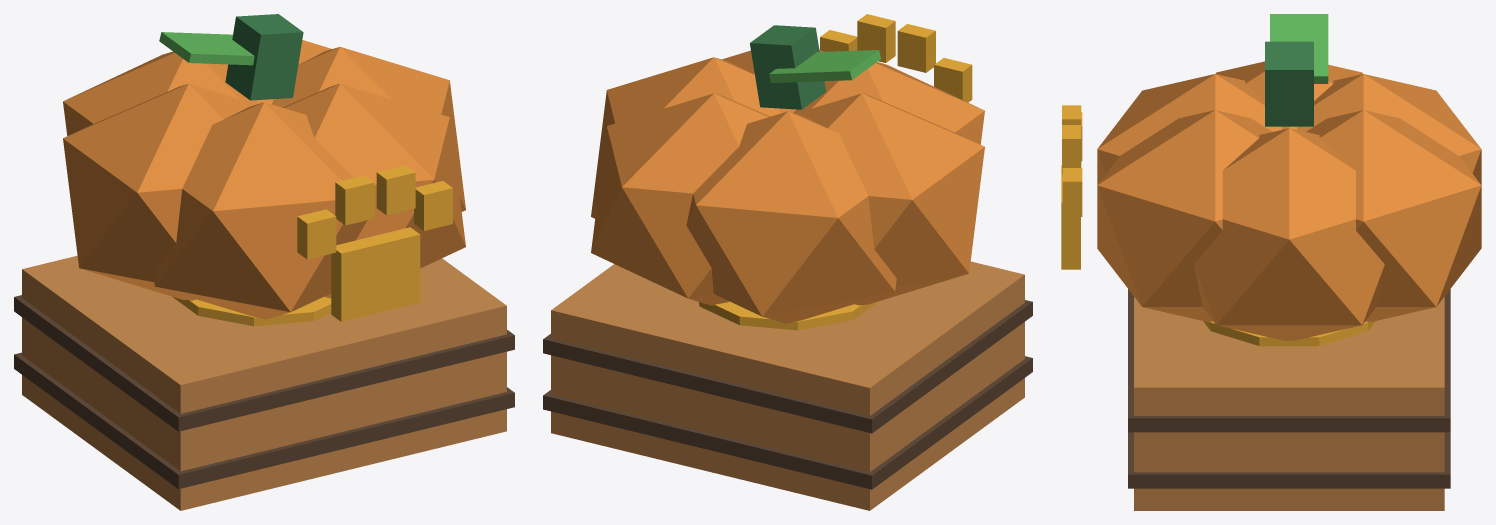
File: CatCafe_Decor_PawPumpkin.glb
The picture shows the model from 3 angles, left to right: view 1: azimuth 30°, elevation 25°; view 2: azimuth 150°, elevation 25°; view 3: azimuth 270°, elevation 25°; orthographic projection. The views are drawn at different scales.
Parts seen in each view (by area): view 1: CatCafe_Decor_PawPumpkin, CatCafe_Decor_PawPumpkin_Glow; view 2: CatCafe_Decor_PawPumpkin, CatCafe_Decor_PawPumpkin_Glow; view 3: CatCafe_Decor_PawPumpkin, CatCafe_Decor_PawPumpkin_Glow.
Part boxes in pixels (x1,y1,x2,y2): CatCafe_Decor_PawPumpkin: (14,14,514,510); CatCafe_Decor_PawPumpkin_Glow: (173,165,452,326); CatCafe_Decor_PawPumpkin: (543,25,1032,510); CatCafe_Decor_PawPumpkin_Glow: (698,14,972,330); CatCafe_Decor_PawPumpkin: (1097,14,1481,510); CatCafe_Decor_PawPumpkin_Glow: (1061,105,1375,346).
Bounding box in the file's own units: 2.16 × 2.18 × 2.16.
1 material, 1 textured.
